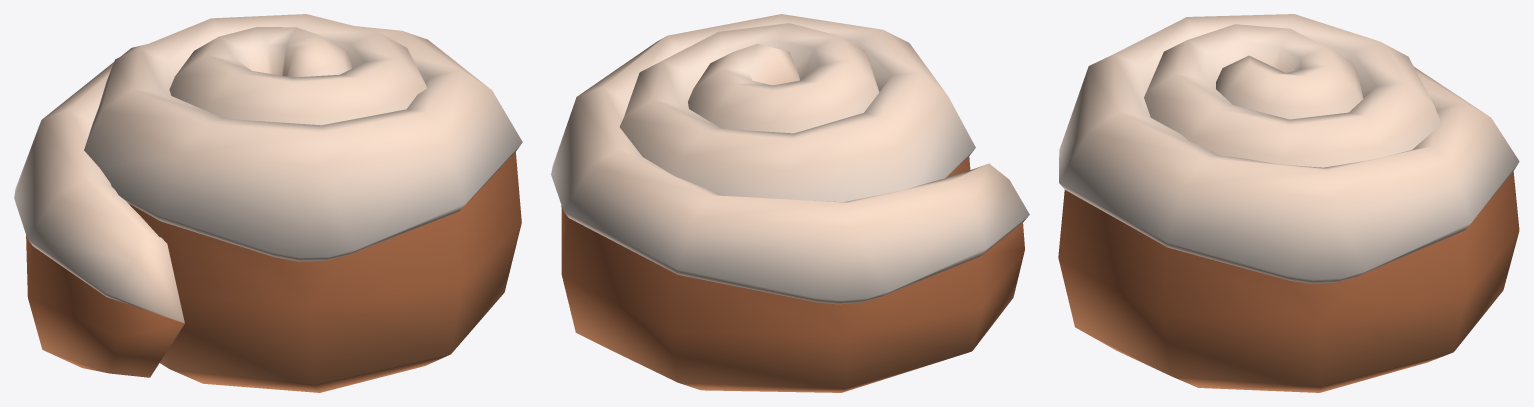
The model's file is cinnamon-roll.glb.
3 renders of one model, left to right at view 1: azimuth 30°, elevation 25°; view 2: azimuth 150°, elevation 25°; view 3: azimuth 270°, elevation 25°, orthographic. The views are drawn at different scales.
Parts seen in each view (by area): view 1: cinnamon_roll; view 2: cinnamon_roll; view 3: cinnamon_roll.
Part boxes in pixels (x1,y1,x2,y2): cinnamon_roll: (14, 14, 522, 392); cinnamon_roll: (551, 14, 1029, 392); cinnamon_roll: (1058, 14, 1519, 392).
Size of the model in its own units: 0.421 by 0.2538 by 0.3931.
1 material, 1 textured.
